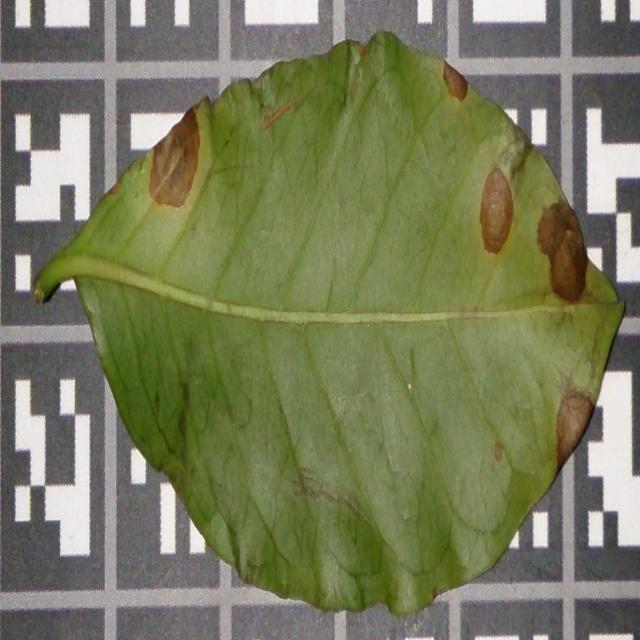Enfermedad-Mancha-de-hierro: (32, 31, 625, 620)
